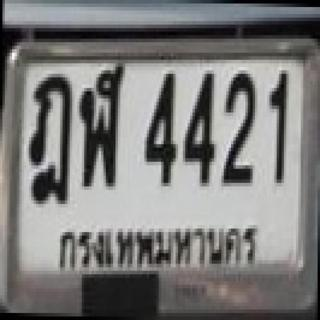A14: (26, 67, 72, 206)
A42: (74, 62, 130, 192)
N01: (264, 67, 295, 185)
N02: (218, 63, 261, 194)
N04: (139, 67, 180, 194), (182, 66, 221, 192)
P04: (53, 224, 264, 269)
